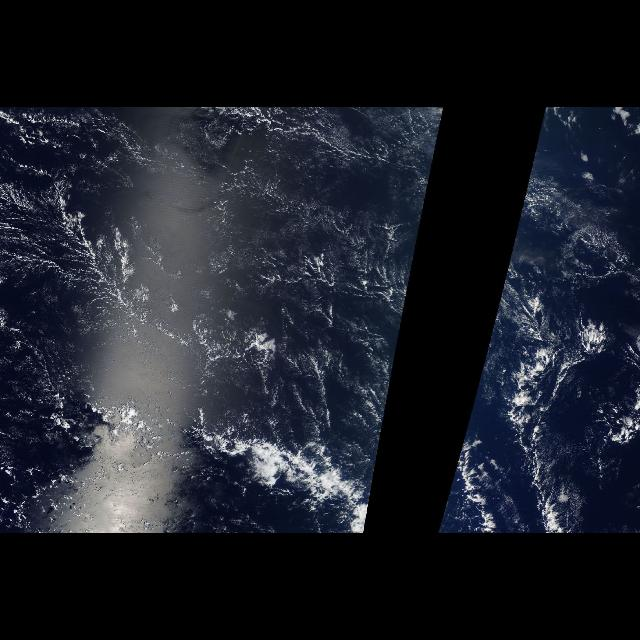Fish: (2, 164, 204, 364), (188, 415, 376, 533)
Sugar: (19, 122, 438, 398)
